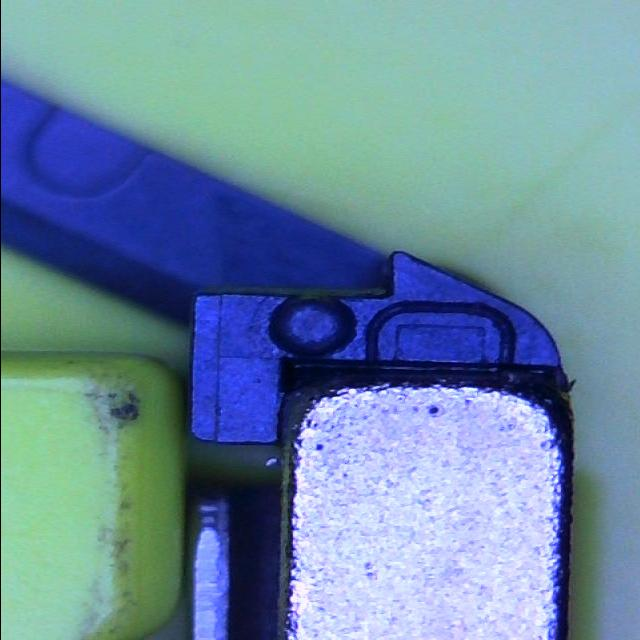lacking: (362, 299, 516, 372)
